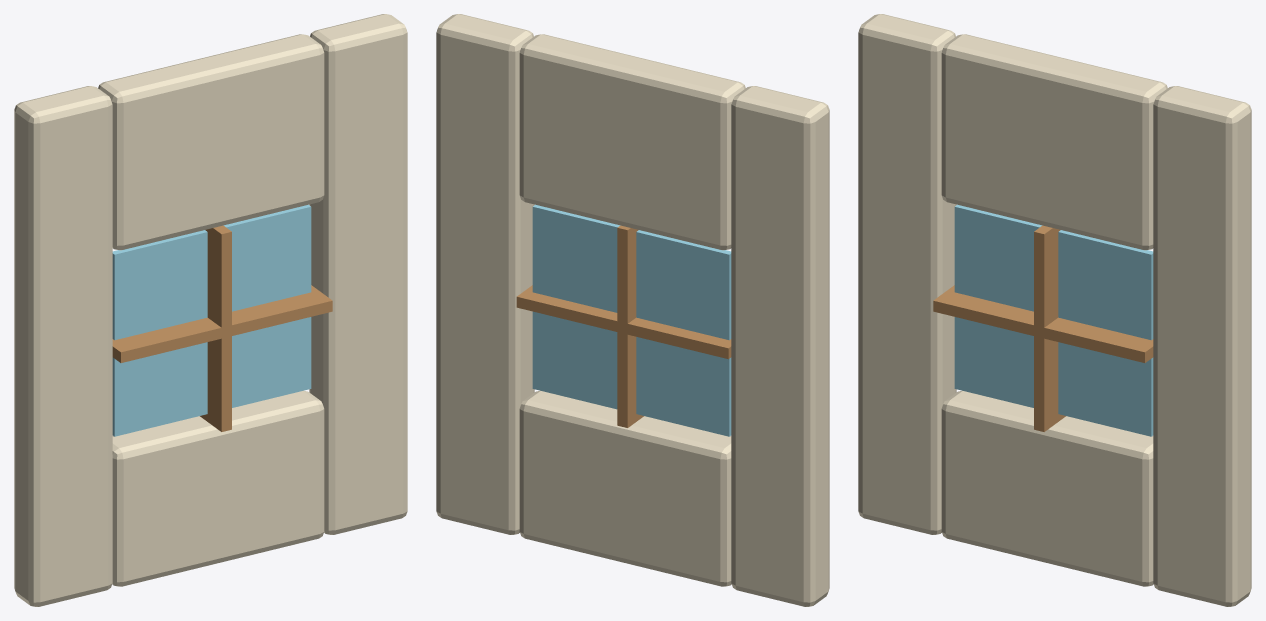
The model's file is FTF_Building_Window_2m.glb.
The picture shows the model from 3 angles, left to right: view 1: azimuth 30°, elevation 25°; view 2: azimuth 150°, elevation 25°; view 3: azimuth 330°, elevation 25°; orthographic projection.
Visible parts, largest first — view 1: SM_FTF_Building_Window_2m_Left, SM_FTF_Building_Window_2m_Right, SM_FTF_Building_Window_2m_Upper, SM_FTF_Building_Window_2m_Lower, SM_FTF_Building_Window_2m_Glass, SM_FTF_Building_Window_2m_CrossbarH, SM_FTF_Building_Window_2m_CrossbarV; view 2: SM_FTF_Building_Window_2m_Left, SM_FTF_Building_Window_2m_Right, SM_FTF_Building_Window_2m_Upper, SM_FTF_Building_Window_2m_Lower, SM_FTF_Building_Window_2m_Glass, SM_FTF_Building_Window_2m_CrossbarH, SM_FTF_Building_Window_2m_CrossbarV; view 3: SM_FTF_Building_Window_2m_Right, SM_FTF_Building_Window_2m_Left, SM_FTF_Building_Window_2m_Upper, SM_FTF_Building_Window_2m_Lower, SM_FTF_Building_Window_2m_Glass, SM_FTF_Building_Window_2m_CrossbarH, SM_FTF_Building_Window_2m_CrossbarV.
Boxes of the visible parts, bbox=[...] form: SM_FTF_Building_Window_2m_Left: bbox=[14, 86, 112, 606]; SM_FTF_Building_Window_2m_Right: bbox=[309, 14, 407, 534]; SM_FTF_Building_Window_2m_Upper: bbox=[98, 34, 324, 250]; SM_FTF_Building_Window_2m_Lower: bbox=[112, 390, 324, 586]; SM_FTF_Building_Window_2m_Glass: bbox=[112, 204, 311, 436]; SM_FTF_Building_Window_2m_CrossbarH: bbox=[112, 285, 332, 362]; SM_FTF_Building_Window_2m_CrossbarV: bbox=[200, 225, 231, 431]; SM_FTF_Building_Window_2m_Left: bbox=[731, 86, 829, 606]; SM_FTF_Building_Window_2m_Right: bbox=[436, 14, 534, 534]; SM_FTF_Building_Window_2m_Upper: bbox=[519, 34, 745, 250]; SM_FTF_Building_Window_2m_Lower: bbox=[519, 390, 731, 586]; SM_FTF_Building_Window_2m_Glass: bbox=[532, 204, 731, 436]; SM_FTF_Building_Window_2m_CrossbarH: bbox=[516, 285, 731, 359]; SM_FTF_Building_Window_2m_CrossbarV: bbox=[617, 225, 643, 427]; SM_FTF_Building_Window_2m_Right: bbox=[1153, 86, 1251, 606]; SM_FTF_Building_Window_2m_Left: bbox=[858, 14, 956, 534]; SM_FTF_Building_Window_2m_Upper: bbox=[941, 34, 1167, 250]; SM_FTF_Building_Window_2m_Lower: bbox=[941, 390, 1153, 586]; SM_FTF_Building_Window_2m_Glass: bbox=[954, 204, 1153, 436]; SM_FTF_Building_Window_2m_CrossbarH: bbox=[933, 285, 1153, 362]; SM_FTF_Building_Window_2m_CrossbarV: bbox=[1034, 225, 1065, 431].
Bounding box in the file's own units: 2 × 2.5 × 0.245.
